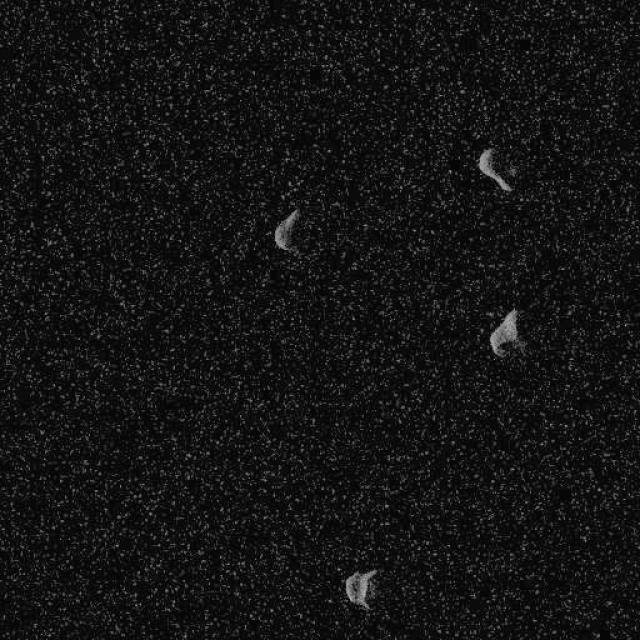D2: (475, 145, 513, 193), (488, 306, 520, 359), (343, 568, 378, 610), (272, 208, 302, 254)
